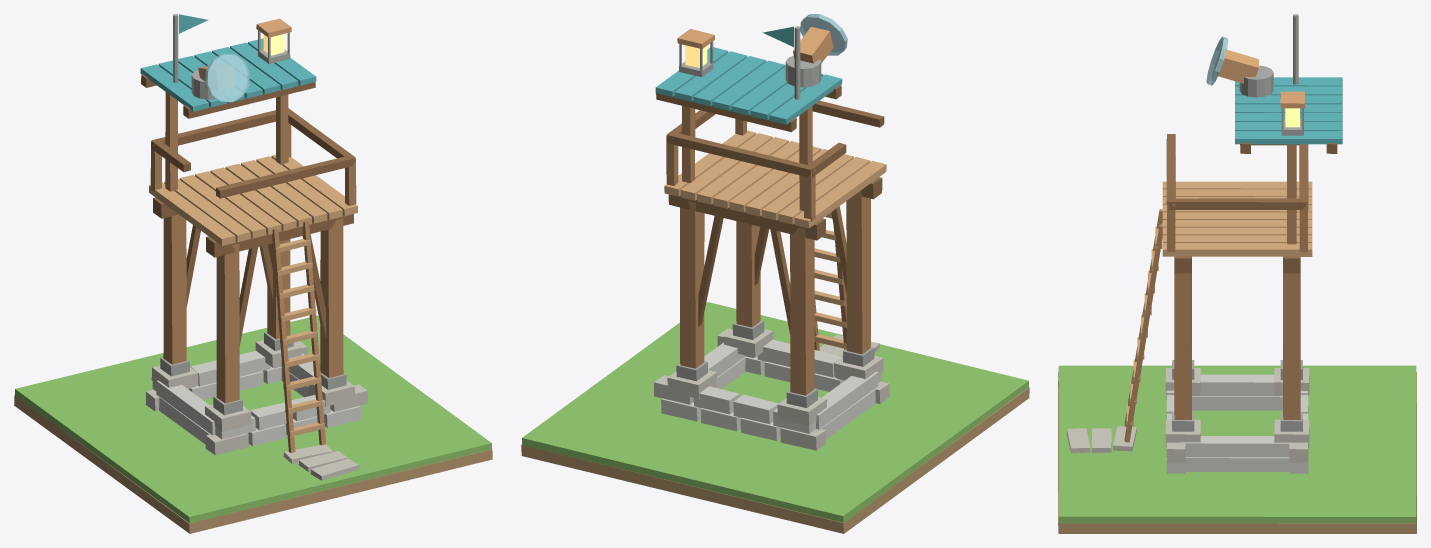
Rendered from tower_l03_active_LOD2.glb.
The picture shows the model from 3 angles, left to right: view 1: azimuth 30°, elevation 25°; view 2: azimuth 150°, elevation 25°; view 3: azimuth 270°, elevation 25°; orthographic projection. The views are drawn at different scales.
Parts seen in each view (by area): view 1: tower_l03_grass_tile_tower_l03_active_LOD2_tmp, tower_l03_earth_tile_tower_l03_active_LOD2_tmp, post_-0.61_-0.54_tower_l03_active_LOD2_tmp, post_-0.61_0.54_tower_l03_active_LOD2_tmp, post_0.61_-0.54_tower_l03_active_LOD2_tmp, telescope_lens_tower_l03_active_LOD2_tmp, balcony_rail_-0.66_tower_l03_active_LOD2_tmp, deck_board_0_tower_l03_active_LOD2_tmp, ladder_rail_-0.18_tower_l03_active_LOD2_tmp, deck_bearer_-0.54_tower_l03_active_LOD2_tmp, stone_return_1_-0.72_tower_l03_active_LOD2_tmp, ladder_rail_0.18_tower_l03_active_LOD2_tmp (+31 smaller); view 2: tower_l03_grass_tile_tower_l03_active_LOD2_tmp, tower_l03_earth_tile_tower_l03_active_LOD2_tmp, post_-0.61_0.54_tower_l03_active_LOD2_tmp, post_-0.61_-0.54_tower_l03_active_LOD2_tmp, post_0.61_0.54_tower_l03_active_LOD2_tmp, post_0.61_-0.54_tower_l03_active_LOD2_tmp, balcony_rail_0.66_tower_l03_active_LOD2_tmp, deck_bearer_0.54_tower_l03_active_LOD2_tmp, deck_board_0_tower_l03_active_LOD2_tmp, stone_return_1_-0.72_tower_l03_active_LOD2_tmp, canopy_board_0_tower_l03_active_LOD2_tmp, deck_board_6_tower_l03_active_LOD2_tmp (+36 smaller); view 3: tower_l03_grass_tile_tower_l03_active_LOD2_tmp, tower_l03_earth_tile_tower_l03_active_LOD2_tmp, post_0.61_0.54_tower_l03_active_LOD2_tmp, post_0.61_-0.54_tower_l03_active_LOD2_tmp, stone_return_1_0.72_tower_l03_active_LOD2_tmp, deck_board_8_tower_l03_active_LOD2_tmp, stone_return_1_-0.72_tower_l03_active_LOD2_tmp, balcony_side_rail_tower_l03_active_LOD2_tmp, stone_return_0_0.72_tower_l03_active_LOD2_tmp, canopy_board_6_tower_l03_active_LOD2_tmp, stone_return_0_-0.72_tower_l03_active_LOD2_tmp, ladder_rail_0.18_tower_l03_active_LOD2_tmp (+26 smaller).
Part boxes in pixels (box(x1,y1,x2,y2)): tower_l03_grass_tile_tower_l03_active_LOD2_tmp: box(14, 315, 492, 523); tower_l03_earth_tile_tower_l03_active_LOD2_tmp: box(14, 396, 492, 533); post_-0.61_-0.54_tower_l03_active_LOD2_tmp: box(216, 244, 239, 403); post_-0.61_0.54_tower_l03_active_LOD2_tmp: box(163, 214, 186, 364); post_0.61_-0.54_tower_l03_active_LOD2_tmp: box(320, 218, 343, 377); telescope_lens_tower_l03_active_LOD2_tmp: box(205, 54, 249, 101); balcony_rail_-0.66_tower_l03_active_LOD2_tmp: box(216, 156, 355, 198); deck_board_0_tower_l03_active_LOD2_tmp: box(149, 182, 235, 245); ladder_rail_-0.18_tower_l03_active_LOD2_tmp: box(272, 228, 295, 452); deck_bearer_-0.54_tower_l03_active_LOD2_tmp: box(206, 214, 353, 257); stone_return_1_-0.72_tower_l03_active_LOD2_tmp: box(156, 380, 215, 435); ladder_rail_0.18_tower_l03_active_LOD2_tmp: box(302, 220, 325, 445); tower_l03_grass_tile_tower_l03_active_LOD2_tmp: box(522, 302, 1028, 522); tower_l03_earth_tile_tower_l03_active_LOD2_tmp: box(521, 387, 1029, 533); post_-0.61_0.54_tower_l03_active_LOD2_tmp: box(790, 228, 814, 395); post_-0.61_-0.54_tower_l03_active_LOD2_tmp: box(846, 190, 870, 354); post_0.61_0.54_tower_l03_active_LOD2_tmp: box(680, 201, 704, 368); post_0.61_-0.54_tower_l03_active_LOD2_tmp: box(736, 221, 760, 327); balcony_rail_0.66_tower_l03_active_LOD2_tmp: box(666, 131, 811, 176); deck_bearer_0.54_tower_l03_active_LOD2_tmp: box(668, 194, 825, 240); deck_board_0_tower_l03_active_LOD2_tmp: box(794, 161, 886, 228); stone_return_1_-0.72_tower_l03_active_LOD2_tmp: box(816, 371, 878, 429); canopy_board_0_tower_l03_active_LOD2_tmp: box(769, 74, 842, 124); deck_board_6_tower_l03_active_LOD2_tmp: box(697, 137, 788, 204); tower_l03_grass_tile_tower_l03_active_LOD2_tmp: box(1058, 365, 1416, 523); tower_l03_earth_tile_tower_l03_active_LOD2_tmp: box(1058, 372, 1416, 533); post_0.61_0.54_tower_l03_active_LOD2_tmp: box(1283, 257, 1300, 419); post_0.61_-0.54_tower_l03_active_LOD2_tmp: box(1174, 258, 1191, 419); stone_return_1_0.72_tower_l03_active_LOD2_tmp: box(1180, 436, 1292, 457); deck_board_8_tower_l03_active_LOD2_tmp: box(1162, 243, 1312, 256); stone_return_1_-0.72_tower_l03_active_LOD2_tmp: box(1192, 374, 1282, 396); balcony_side_rail_tower_l03_active_LOD2_tmp: box(1168, 198, 1306, 209); stone_return_0_0.72_tower_l03_active_LOD2_tmp: box(1185, 457, 1289, 471); canopy_board_6_tower_l03_active_LOD2_tmp: box(1235, 131, 1342, 144); stone_return_0_-0.72_tower_l03_active_LOD2_tmp: box(1192, 396, 1282, 410); ladder_rail_0.18_tower_l03_active_LOD2_tmp: box(1124, 224, 1162, 442).
Size of the model in its own units: 3.57 by 4.6 by 3.57.
